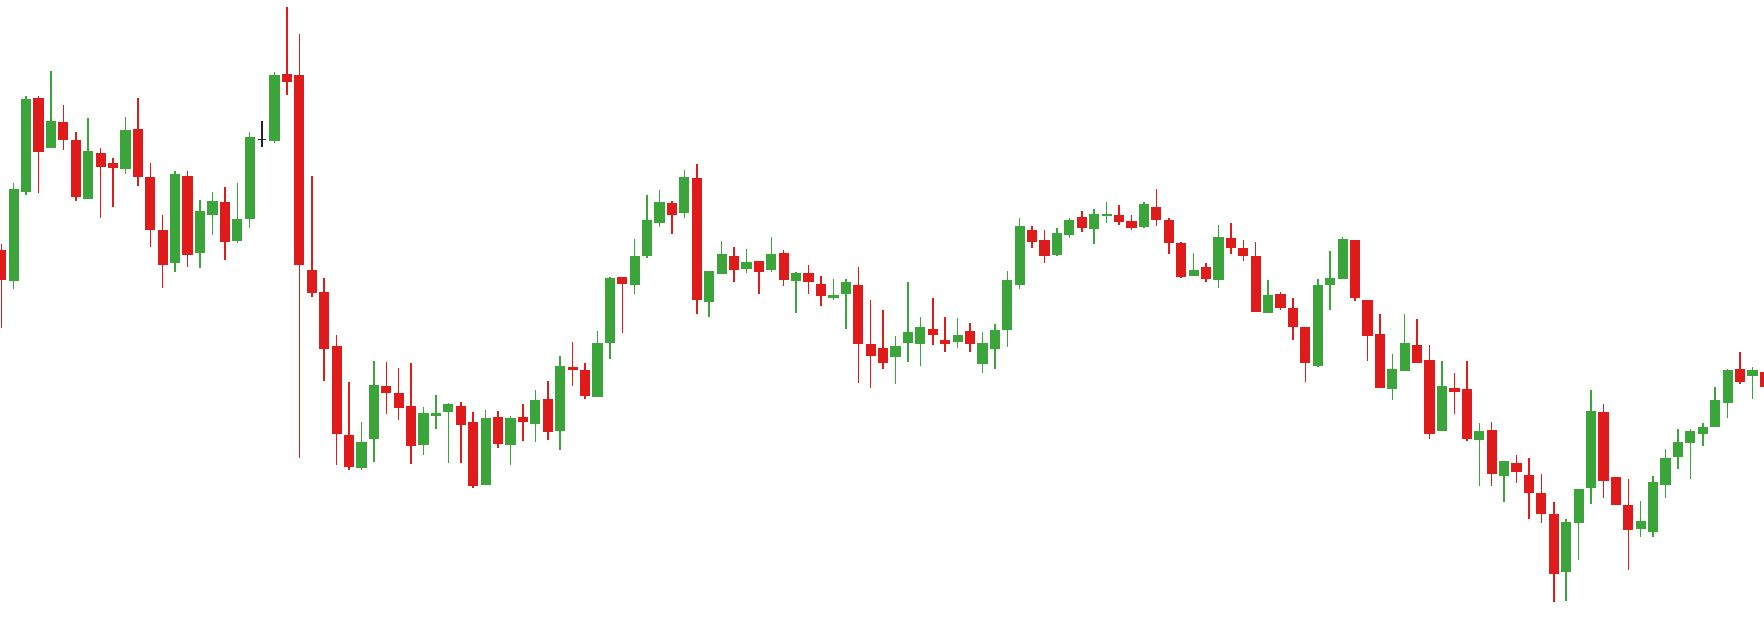buy: (339, 395, 494, 490)
sell: (130, 1, 308, 170)
